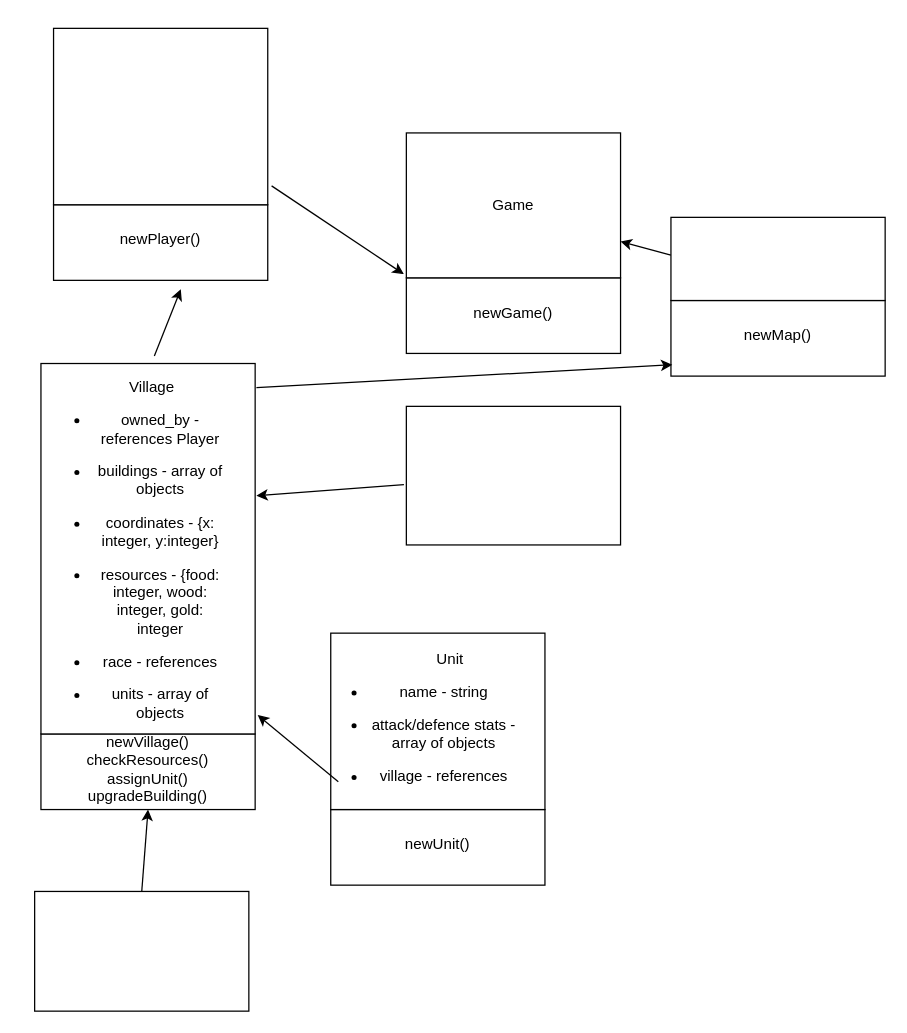
The diagram is 907 pixels wide and 1033 high, and some of its shapes have lost their labels. The centre of each missing label's shape, as x and y in pixels:
Map: the point at 777,258
Player username - string password - string email - string game - references: the point at 160,116
Race buffs - undecided: the point at 513,475
Resource name - string: the point at 141,950
